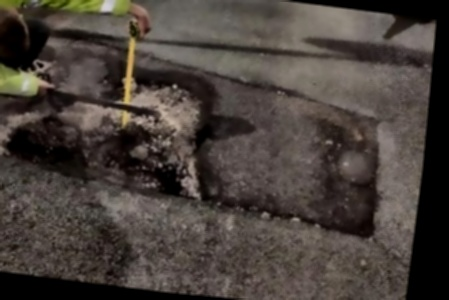pothole: (92, 60, 226, 205)
